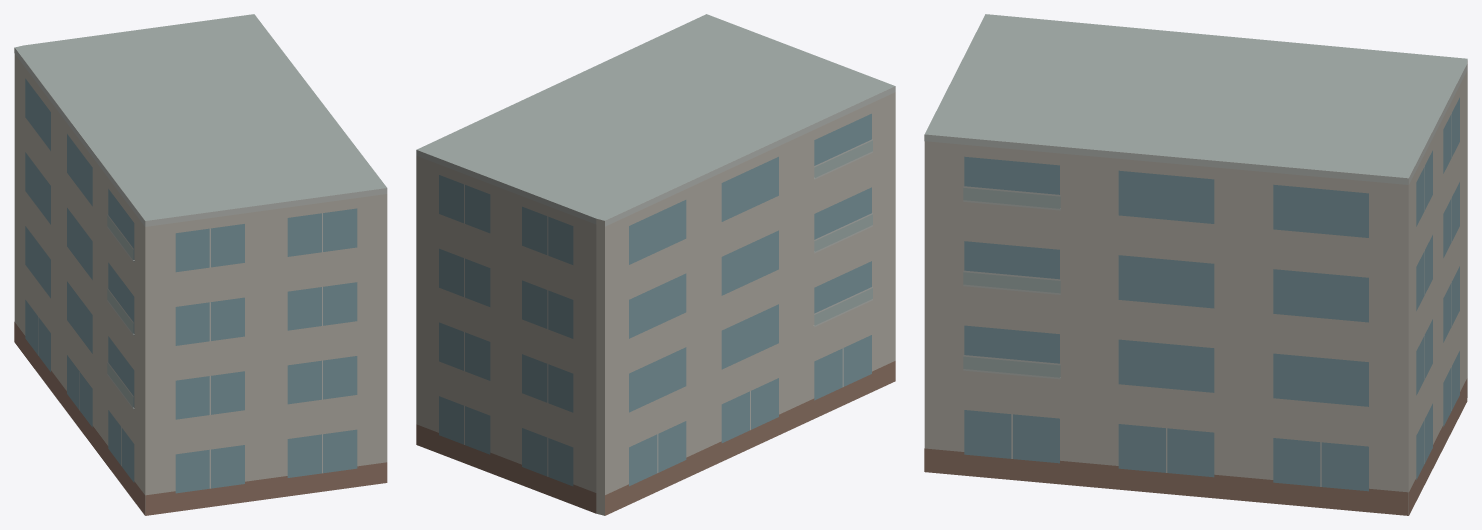
Rendered from survey-upis-32956066.glb.
3 renders of one model, left to right at view 1: azimuth 30°, elevation 25°; view 2: azimuth 150°, elevation 25°; view 3: azimuth 270°, elevation 25°, orthographic. The views are drawn at different scales.
Parts seen in each view (by area): view 1: survey-upis-32956066.tmp; view 2: survey-upis-32956066.tmp; view 3: survey-upis-32956066.tmp.
Part boxes in pixels (bbox=[...]): survey-upis-32956066.tmp: bbox=[14, 14, 387, 515]; survey-upis-32956066.tmp: bbox=[416, 14, 895, 515]; survey-upis-32956066.tmp: bbox=[924, 14, 1467, 515].
Size of the model in its own units: 12.74 by 12.2 by 17.79.
